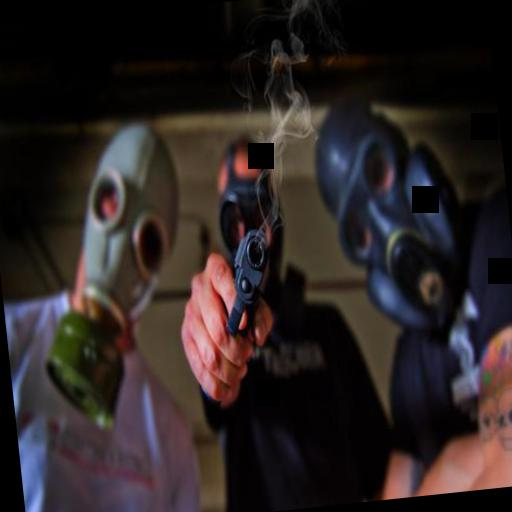Handgun: (206, 218, 282, 348)
